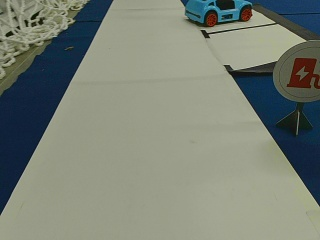battery: (274, 41, 319, 104)
car: (186, 1, 253, 25)
